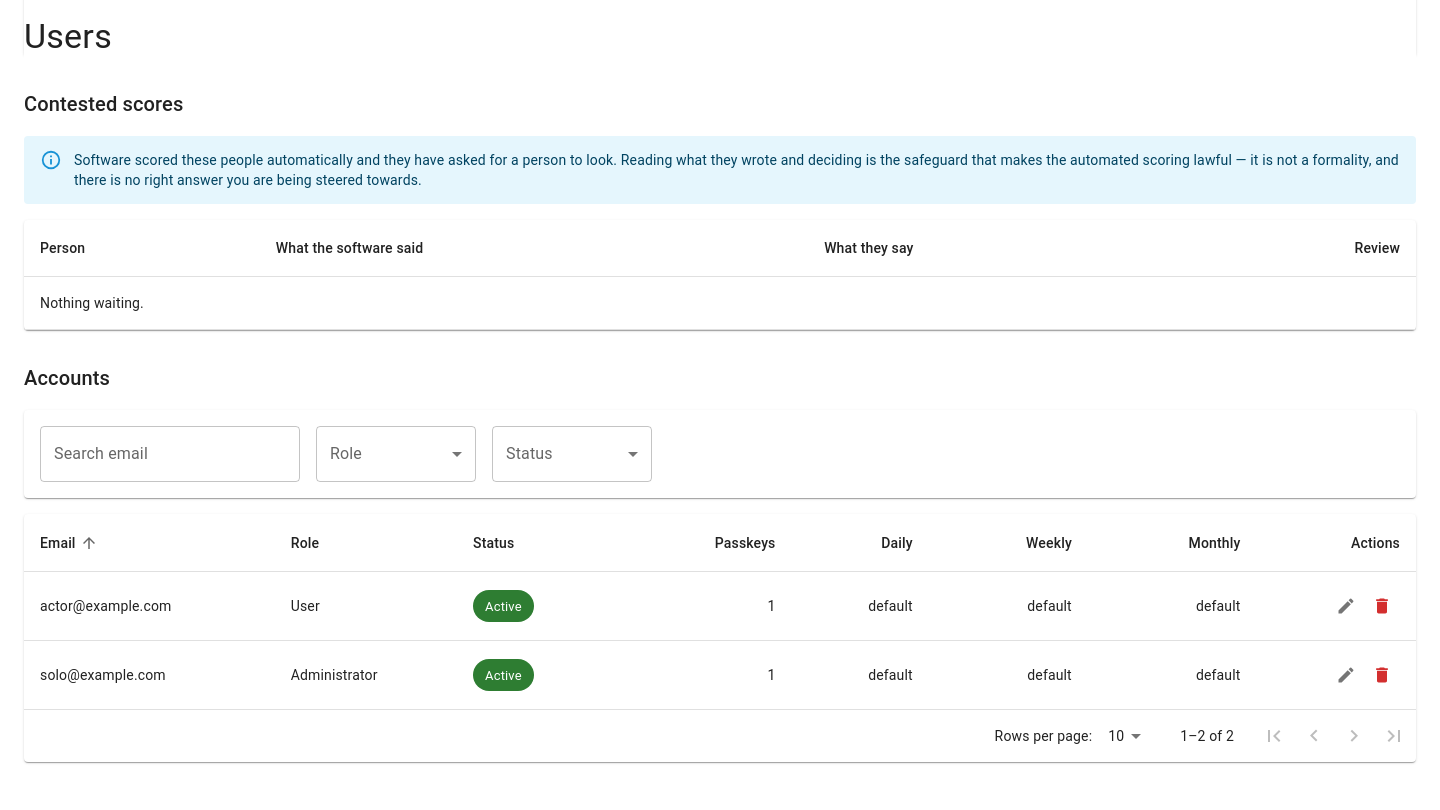
Test: refusals, visible before the click › blocks the last Administrator and says why, as text
The image size is (1440, 810).
(page scrolled)
Click the button named "Edit" in the row of "solo@example.com": click(1346, 675) [1328,657,1364,693]
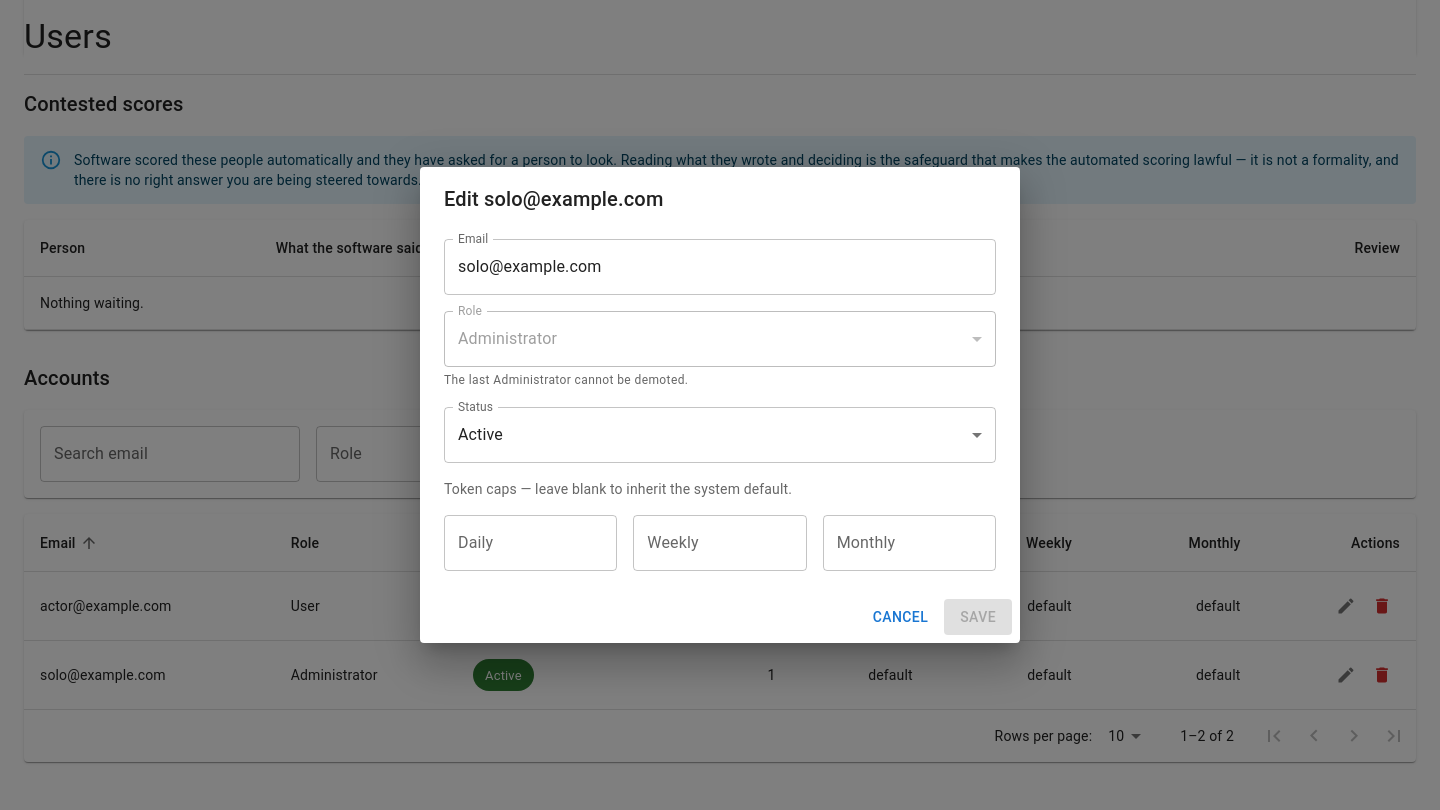
Check: the text "The last Administrator cannot be demoted." is shown, box [444,373,688,387]
